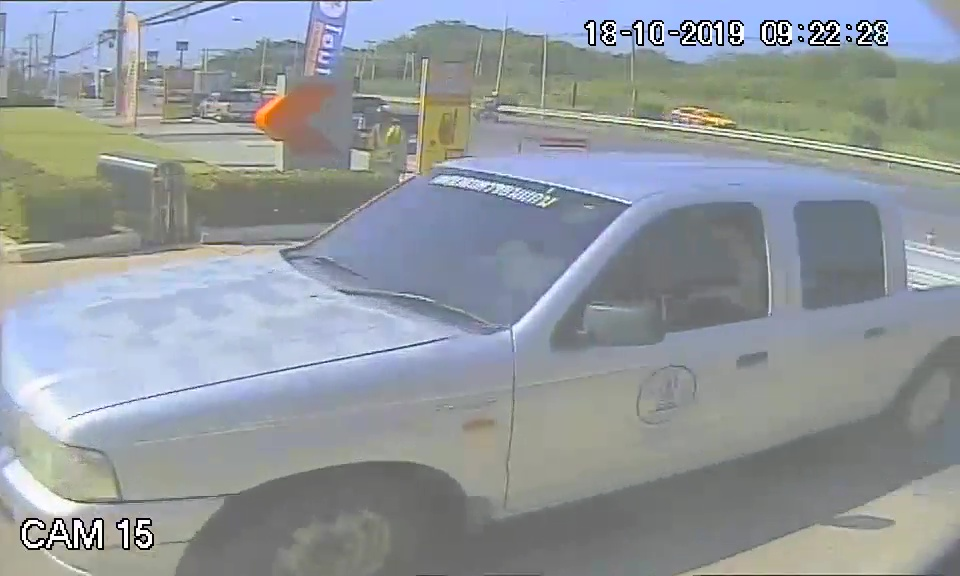pickup: (5, 153, 951, 533)
